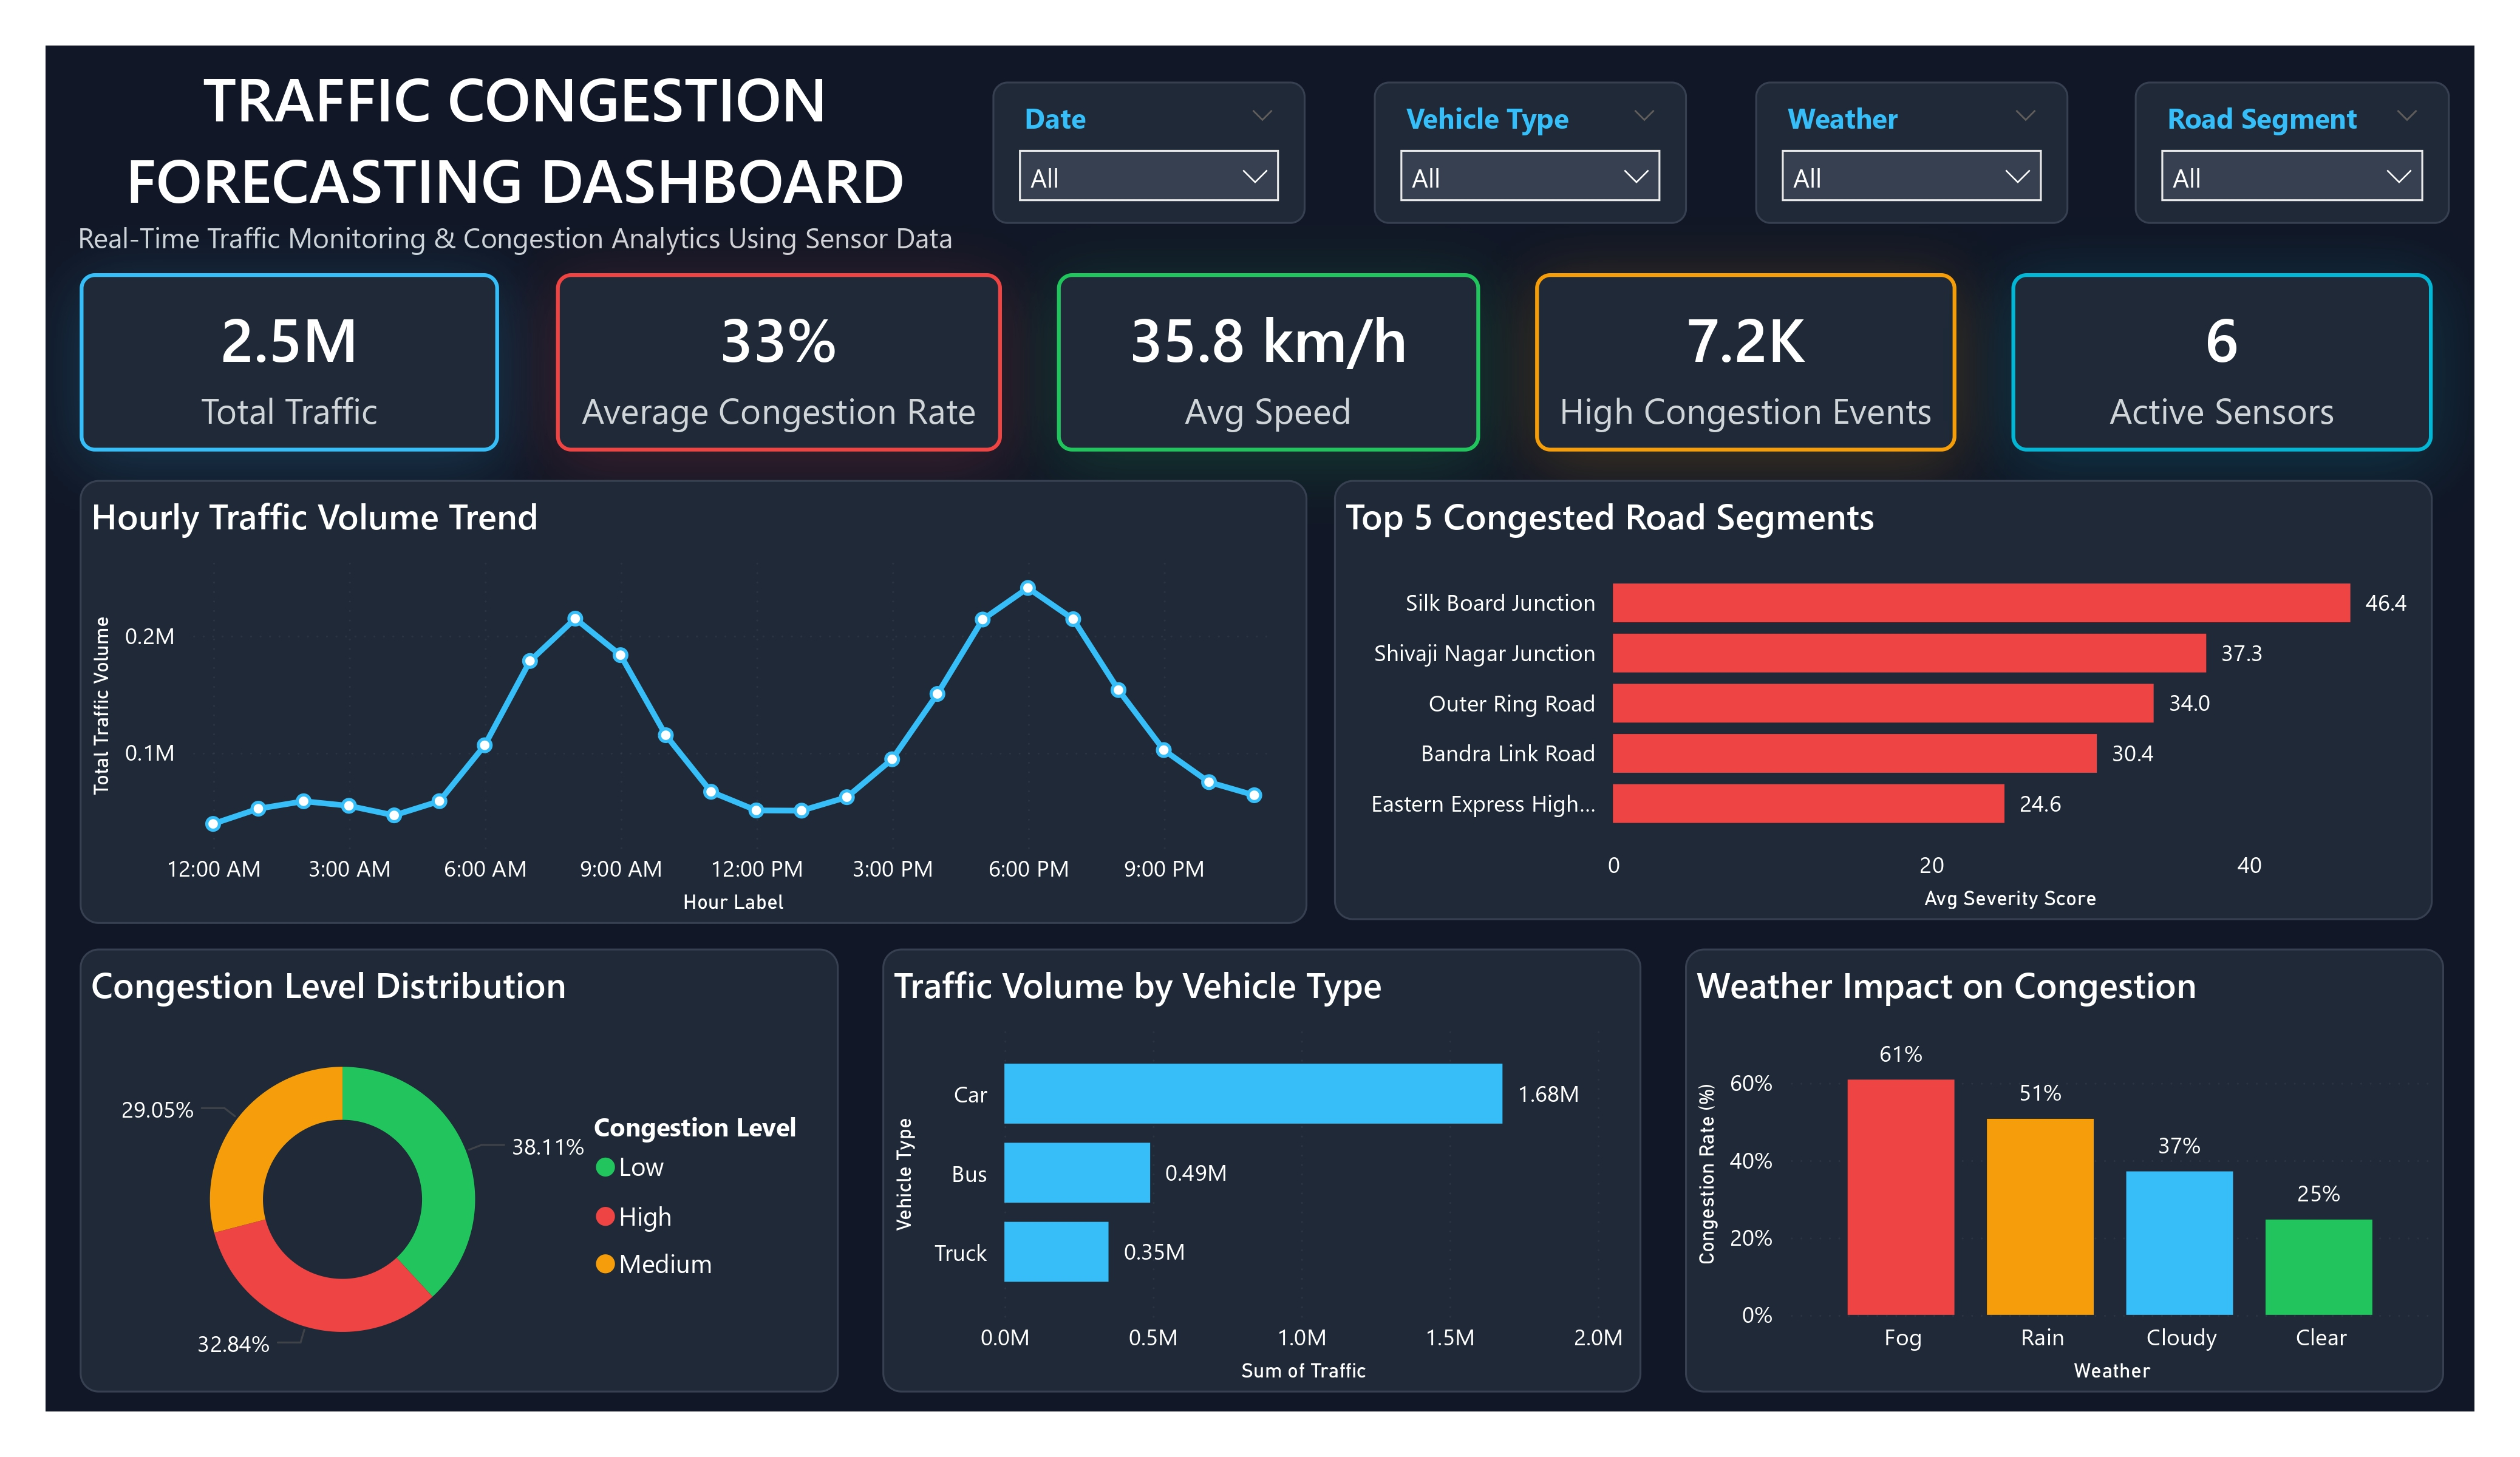

The page's visual inventory and layout, read from the dashboard file:
{"tool":"powerbi","page":{"name":"Overview","canvas":[1280,720],"ordinal":0},"visuals":[{"type":"textbox","box":[0,0,495.2,150.2],"z":0},{"type":"card","fields":{"Values":["Traffic_Data.Total Traffic"]},"box":[17.8,119.7,221.5,94.2],"z":1000},{"type":"card","fields":{"Values":["Traffic_Data.High Congestion Count"]},"box":[785.5,119.7,221.5,94.2],"z":2000},{"type":"card","fields":{"Values":["Traffic_Data.Avg Congestion"]},"box":[268.6,119.7,235.5,94.2],"z":3000},{"type":"card","fields":{"Values":["Traffic_Data.Avg Speed KPI"]},"box":[533.4,119.7,222.8,94.2],"z":4000},{"type":"card","fields":{"Values":["Traffic_Data.Active Sensors"]},"box":[1036.2,119.7,221.5,94.2],"z":5000},{"type":"slicer","fields":{"Values":["Traffic_Data.Date"]},"box":[499,19.1,165,75],"z":6000},{"type":"slicer","fields":{"Values":["Traffic_Data.Vehicle_Type"]},"box":[699.6,19.1,165.5,75],"z":7000},{"type":"slicer","fields":{"Values":["Traffic_Data.Weather"]},"box":[900.6,19.1,165,75],"z":8000},{"type":"lineChart","title":"Hourly Traffic Volume Trend","fields":{"Y":["Sum(Traffic_Data.Traffic_Volume)"],"Category":["Traffic_Data.Hour_Label"]},"box":[17.8,229.1,646.7,234.2],"z":9000},{"type":"donutChart","title":"Congestion Level Distribution","fields":{"Category":["Traffic_Data.Congestion_Level"],"Y":["Sum(Traffic_Data.Traffic_Volume)"]},"box":[18.3,476.2,400,233.5],"z":10000},{"type":"clusteredBarChart","title":"Traffic Volume by Vehicle Type","fields":{"Category":["Traffic_Data.Vehicle_Type"],"Y":["Sum(Traffic_Data.Traffic_Volume)"]},"box":[441.1,476.2,400,233.5],"z":11000},{"type":"clusteredColumnChart","title":"Weather Impact on Congestion","fields":{"Category":["Traffic_Data.Weather"],"Y":["Avg(Traffic_Data.Congestion_Index)"]},"box":[863.9,476.2,399.9,233.5],"z":12000},{"type":"clusteredBarChart","title":"Top 5 Congested Road Segments","fields":{"Category":["Traffic_Data.Road_Segment"],"Y":["Avg(Traffic_Data.Severity_Score)"]},"box":[679.2,228.9,578.5,232],"z":13000},{"type":"slicer","fields":{"Values":["Traffic_Data.Road_Segment"]},"box":[1101.2,19.1,165.5,75],"z":14000}]}

Visuals, with their boxes on the page's 1280x720 design canvas (x1, y1, x2, y2). These are canvas units, not pixel positions in the 2520x1457 screenshot, which may show the page scaled, cropped or inside an application window:
textbox: x1=0 y1=0 x2=495 y2=150
card - Traffic_Data.Total Traffic: x1=18 y1=120 x2=239 y2=214
card - Traffic_Data.High Congestion Count: x1=786 y1=120 x2=1007 y2=214
card - Traffic_Data.Avg Congestion: x1=269 y1=120 x2=504 y2=214
card - Traffic_Data.Avg Speed KPI: x1=533 y1=120 x2=756 y2=214
card - Traffic_Data.Active Sensors: x1=1036 y1=120 x2=1258 y2=214
slicer - Traffic_Data.Date: x1=499 y1=19 x2=664 y2=94
slicer - Traffic_Data.Vehicle_Type: x1=700 y1=19 x2=865 y2=94
slicer - Traffic_Data.Weather: x1=901 y1=19 x2=1066 y2=94
"Hourly Traffic Volume Trend" lineChart: x1=18 y1=229 x2=664 y2=463
"Congestion Level Distribution" donutChart: x1=18 y1=476 x2=418 y2=710
"Traffic Volume by Vehicle Type" clusteredBarChart: x1=441 y1=476 x2=841 y2=710
"Weather Impact on Congestion" clusteredColumnChart: x1=864 y1=476 x2=1264 y2=710
"Top 5 Congested Road Segments" clusteredBarChart: x1=679 y1=229 x2=1258 y2=461
slicer - Traffic_Data.Road_Segment: x1=1101 y1=19 x2=1267 y2=94
